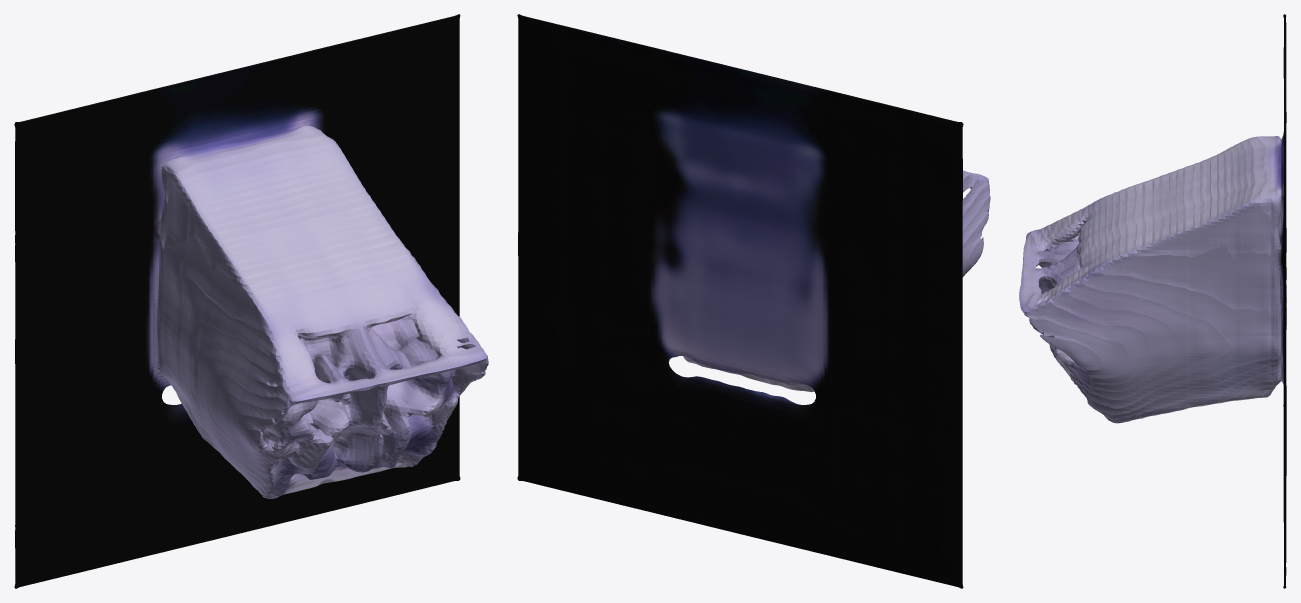
The model's file is 20251031T184803Z_ShapE_6772daccd964.glb.
3 views of the same model, side by side, from view 1: azimuth 30°, elevation 25°; view 2: azimuth 150°, elevation 25°; view 3: azimuth 270°, elevation 25° (orthographic). The views are drawn at different scales.
Visible parts, largest first — view 1: model.ply; view 2: model.ply; view 3: model.ply.
Part boxes in pixels (box(x1,y1,x2,y2)): model.ply: box(14, 14, 488, 588); model.ply: box(517, 14, 990, 588); model.ply: box(1019, 14, 1286, 588).
Size of the model in its own units: 1.98 by 1.98 by 1.22.
